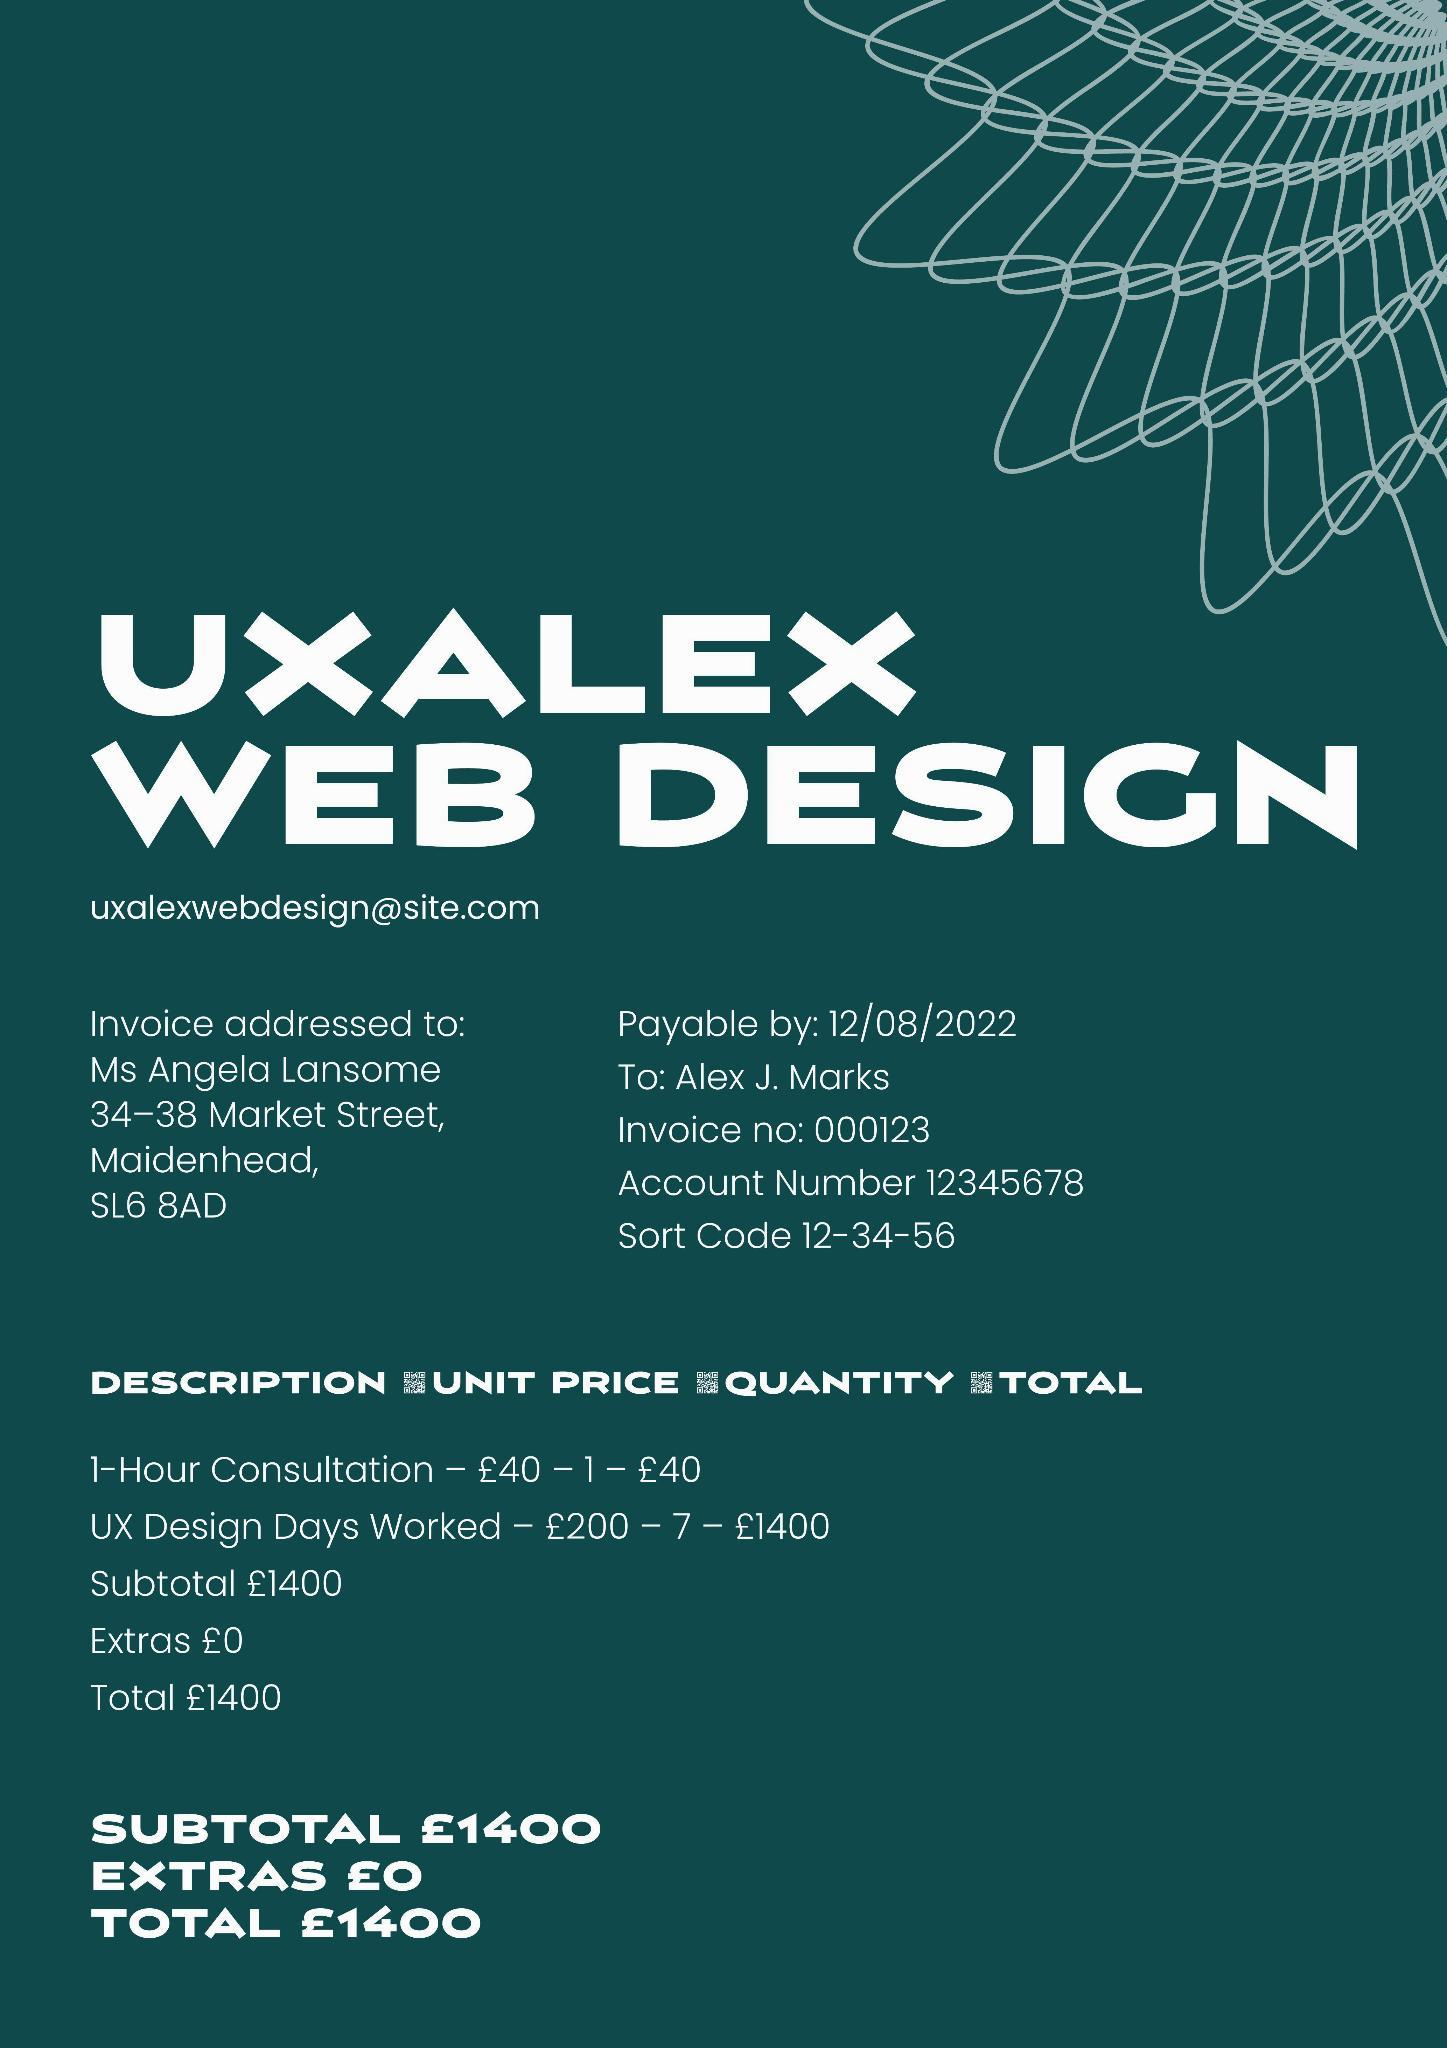ROI: (64, 590, 1395, 882), (89, 1361, 1148, 1722), (611, 1007, 1096, 1275), (70, 1007, 468, 1221), (89, 1801, 608, 1946), (74, 888, 547, 928)
